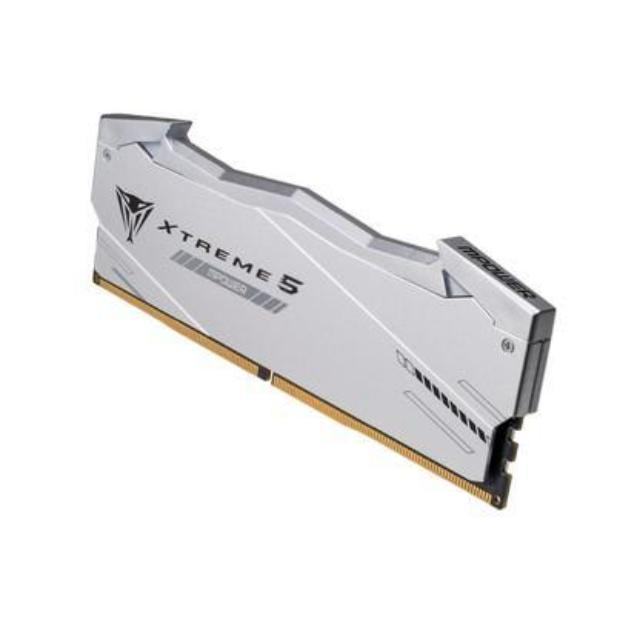RAM: (85, 111, 560, 518)
